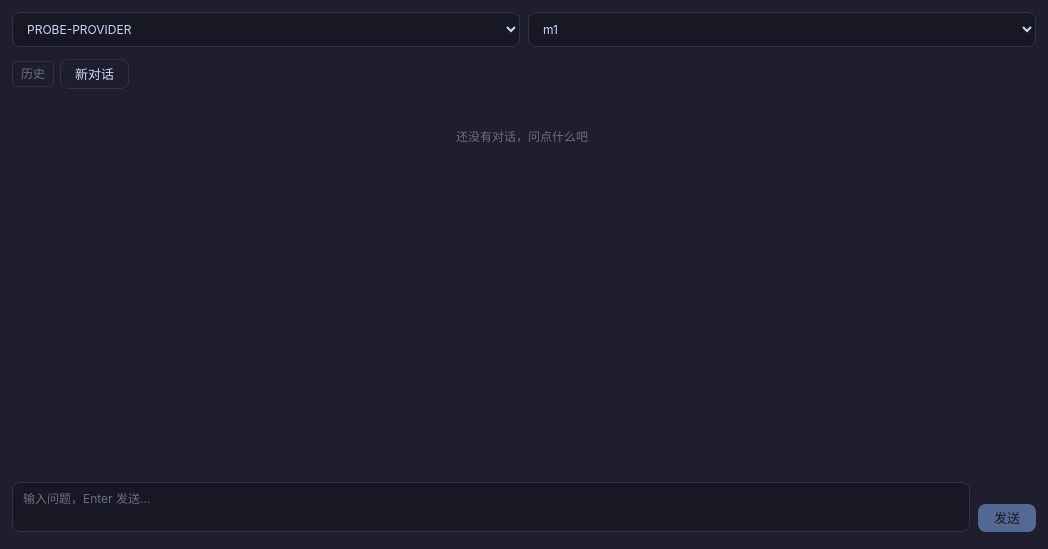
Test: ① 本库历史那一发：那句上屏、不报条数，出口是再点那一格（所以不造键） › 再点那一格自己就会重拉：通道多打一次、读到 ⇒ 那句不出现、计数回来（不造键的现证）
The width and height of the screenshot is (1048, 549).
Click the button "历史": (33, 74) x1=12 y1=61 x2=54 y2=87
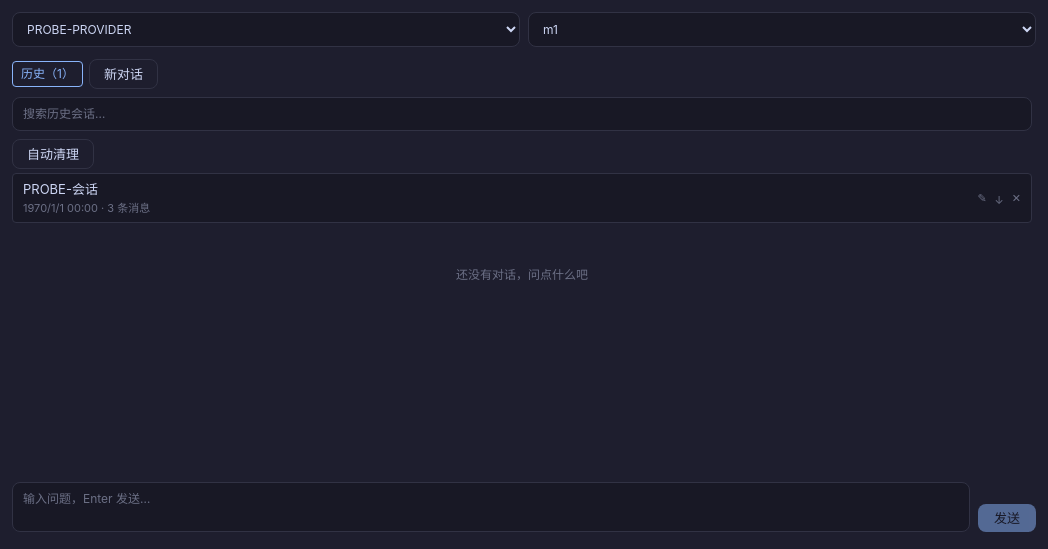
Expected: the text "PROBE-会话" is shown, x1=23 y1=181 x2=98 y2=197
